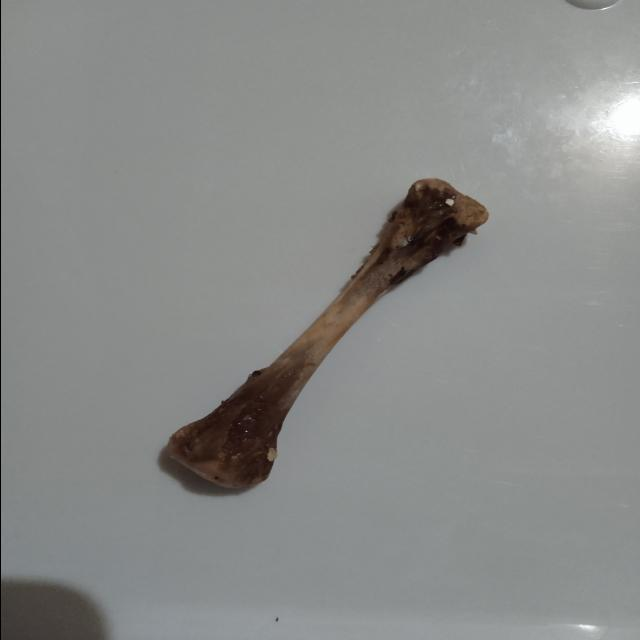bone: (160, 176, 494, 496)
